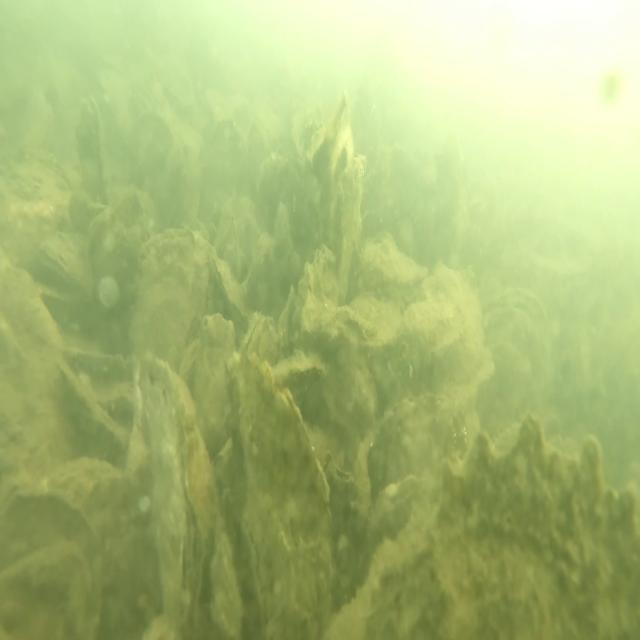Oyster-Closed: (228, 346, 333, 640), (138, 352, 212, 640), (129, 223, 210, 398), (365, 389, 465, 529), (294, 243, 339, 355), (322, 444, 364, 563), (358, 234, 424, 307), (210, 251, 248, 326), (273, 352, 324, 405), (242, 231, 273, 313), (270, 204, 296, 288), (216, 205, 242, 278), (241, 308, 272, 368), (276, 278, 300, 346)
Oyster-Indeterminate: (324, 413, 639, 640), (44, 457, 139, 640), (0, 484, 99, 640), (87, 182, 152, 331), (191, 314, 235, 457)
Oyster-Open: (486, 287, 548, 433), (204, 515, 264, 640), (324, 100, 363, 282), (33, 235, 92, 302), (76, 95, 108, 207)
